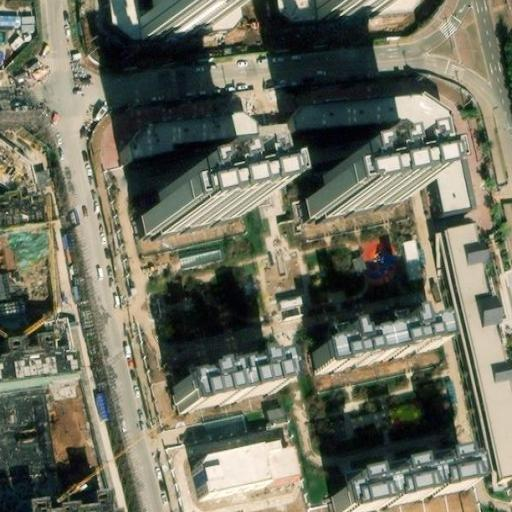building: (293, 94, 471, 216), (436, 224, 512, 482), (333, 452, 473, 512), (300, 158, 413, 225), (309, 318, 433, 377), (137, 182, 247, 236), (122, 114, 248, 158), (197, 440, 296, 495), (171, 365, 269, 413), (0, 329, 84, 380), (363, 0, 442, 37), (143, 0, 215, 40), (0, 195, 53, 235), (108, 0, 142, 41), (400, 237, 425, 280), (331, 0, 402, 9)
